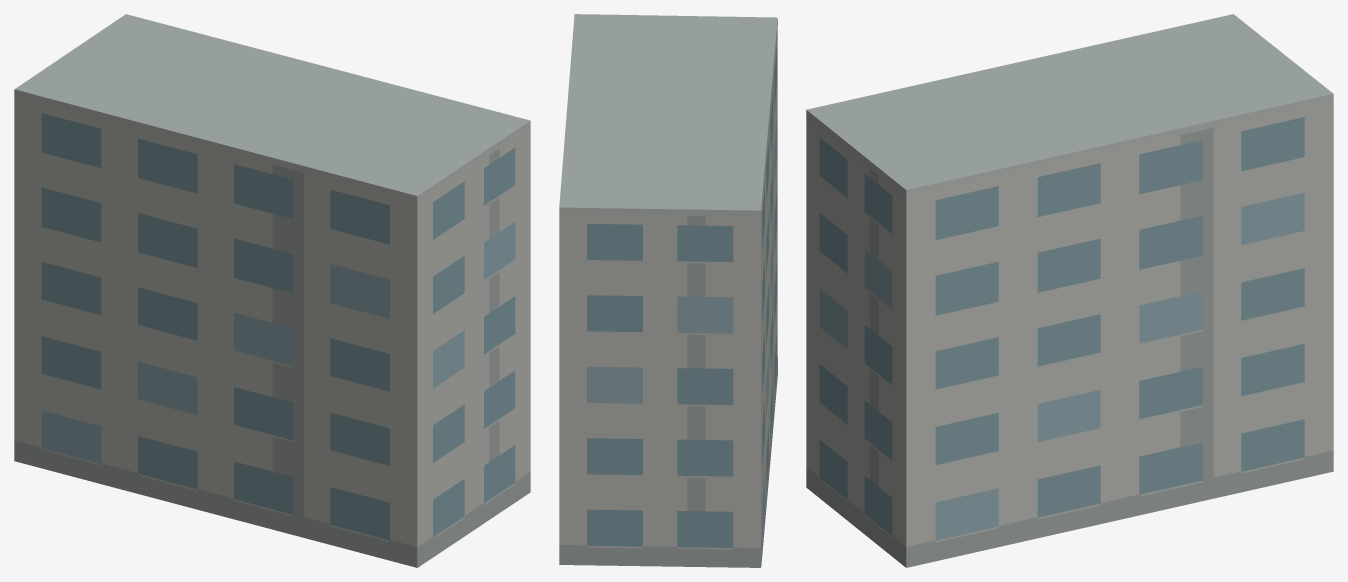
Rendered from survey-upis-32956339.glb.
The picture shows the model from 3 angles, left to right: view 1: azimuth 30°, elevation 25°; view 2: azimuth 150°, elevation 25°; view 3: azimuth 270°, elevation 25°; orthographic projection. The views are drawn at different scales.
Visible parts, largest first — view 1: survey-upis-32956339.tmp; view 2: survey-upis-32956339.tmp; view 3: survey-upis-32956339.tmp.
Part boxes in pixels (left/top/right/bottom): survey-upis-32956339.tmp: left=14, top=14, right=530, bottom=567; survey-upis-32956339.tmp: left=559, top=14, right=777, bottom=567; survey-upis-32956339.tmp: left=806, top=14, right=1333, bottom=567.
Size of the model in its own units: 13.2 by 13.2 by 16.71.
